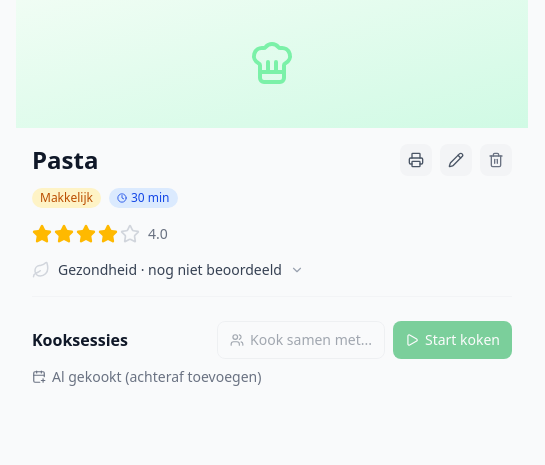
RecipeDetail print button › prints directly on the Pi when a printer is set up, without a browser dialog
Click the button named "Afdrukken": (416,160) [400,144,432,176]
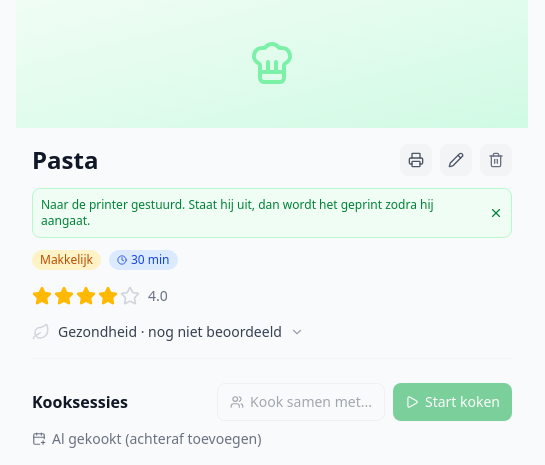
Result: the text "Naar de printer gestuurd" is shown at [41,196,434,229]
